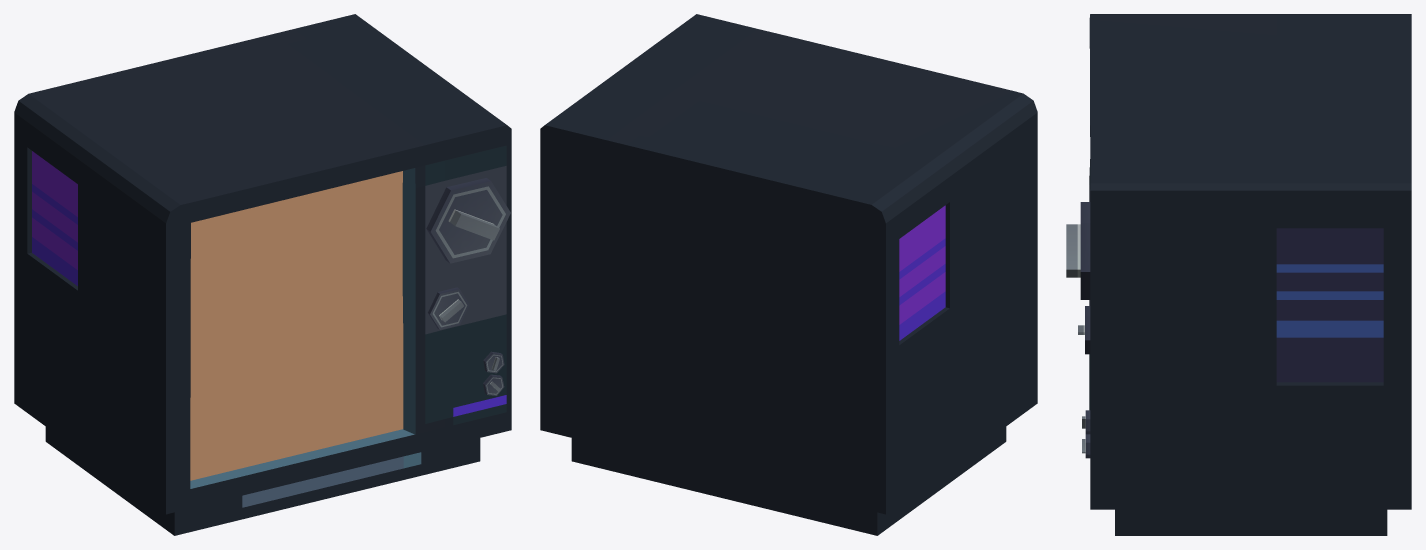
File: Prop_TV07.fbx
3 renders of one model, left to right at view 1: azimuth 30°, elevation 25°; view 2: azimuth 150°, elevation 25°; view 3: azimuth 270°, elevation 25°, orthographic. The views are drawn at different scales.
Parts seen in each view (by area): view 1: Cube.433; view 2: Cube.433; view 3: Cube.433.
Part boxes in pixels (left/top/right/bottom): Cube.433: left=14, top=14, right=511, bottom=535; Cube.433: left=540, top=14, right=1037, bottom=535; Cube.433: left=1066, top=14, right=1411, bottom=535.
Size of the model in its own units: 61.66 by 58.09 by 50.45.
